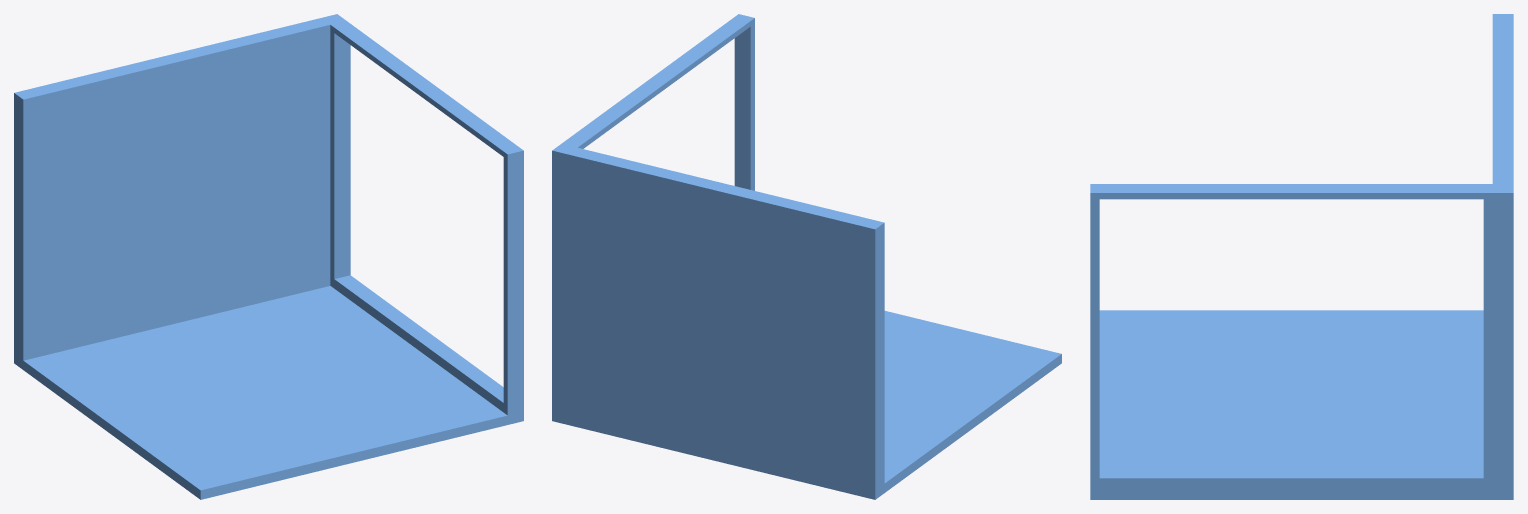
The model's file is Wall_28.fbx.
3 views of the same model, side by side, from view 1: azimuth 30°, elevation 25°; view 2: azimuth 150°, elevation 25°; view 3: azimuth 270°, elevation 25° (orthographic). The views are drawn at different scales.
Parts seen in each view (by area): view 1: Wall_28; view 2: Wall_28; view 3: Wall_28.
Part boxes in pixels (bbox=[...]): Wall_28: bbox=[14, 14, 523, 499]; Wall_28: bbox=[552, 14, 1061, 499]; Wall_28: bbox=[1090, 14, 1513, 499].
Bounding box in the file's own units: 3.8 × 3.04 × 3.8.
